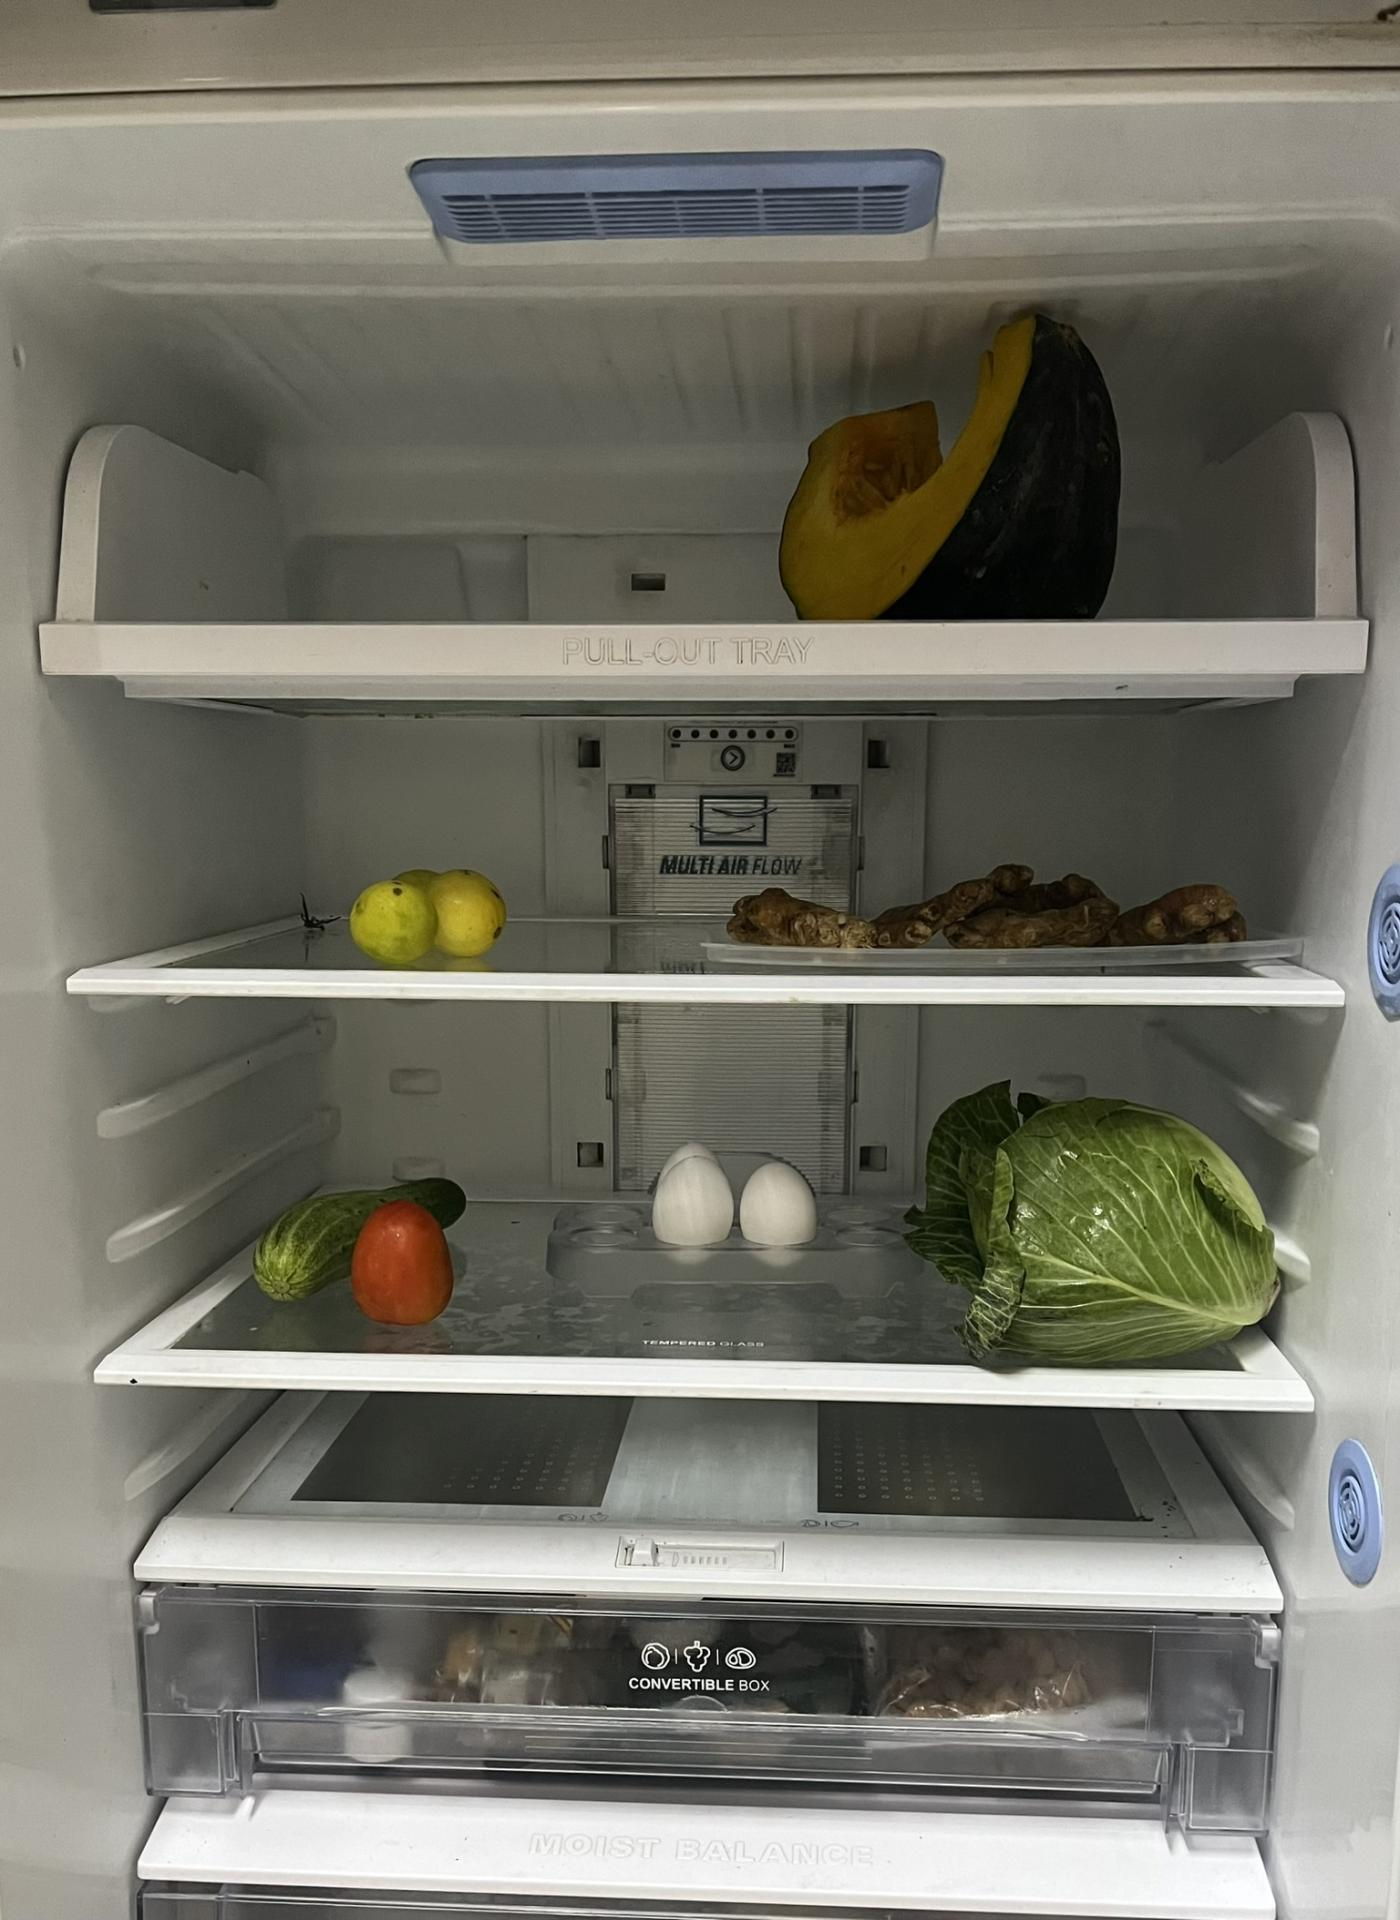cabbage: (932, 1094, 1285, 1346)
cucumber: (265, 1173, 473, 1294)
egg: (649, 1149, 817, 1266)
ginger: (731, 860, 1257, 950)
lemon: (343, 860, 504, 959)
pumpkin: (783, 301, 1132, 611)
tomato: (347, 1206, 455, 1322)
